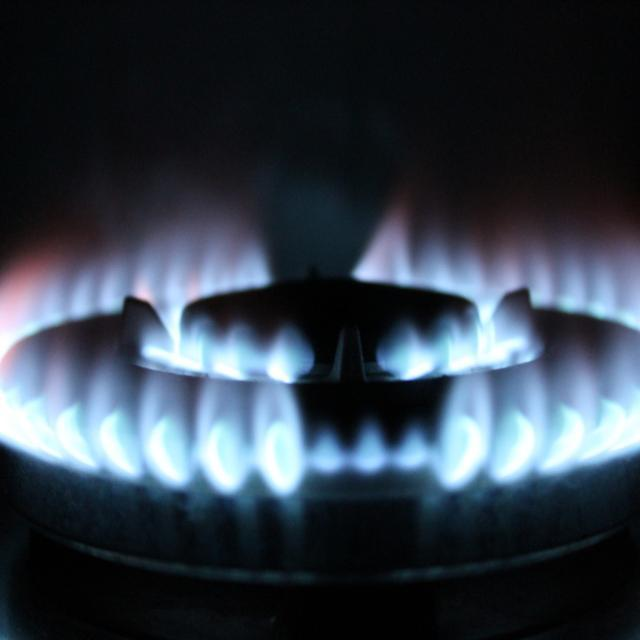Fire: (12, 358, 290, 488), (436, 322, 640, 460), (364, 223, 618, 303), (74, 214, 260, 283)
